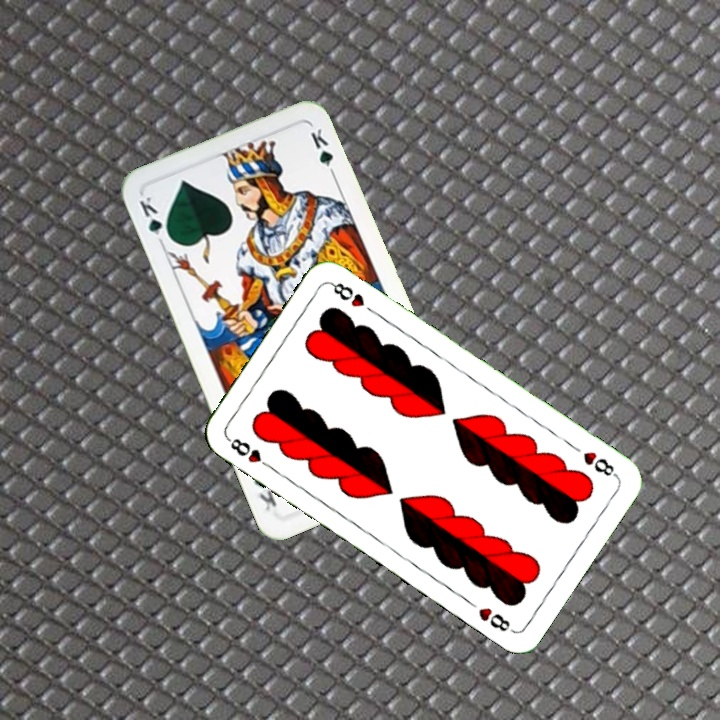GK: (135, 192, 174, 244)
H8: (223, 433, 276, 472), (579, 447, 620, 480)
